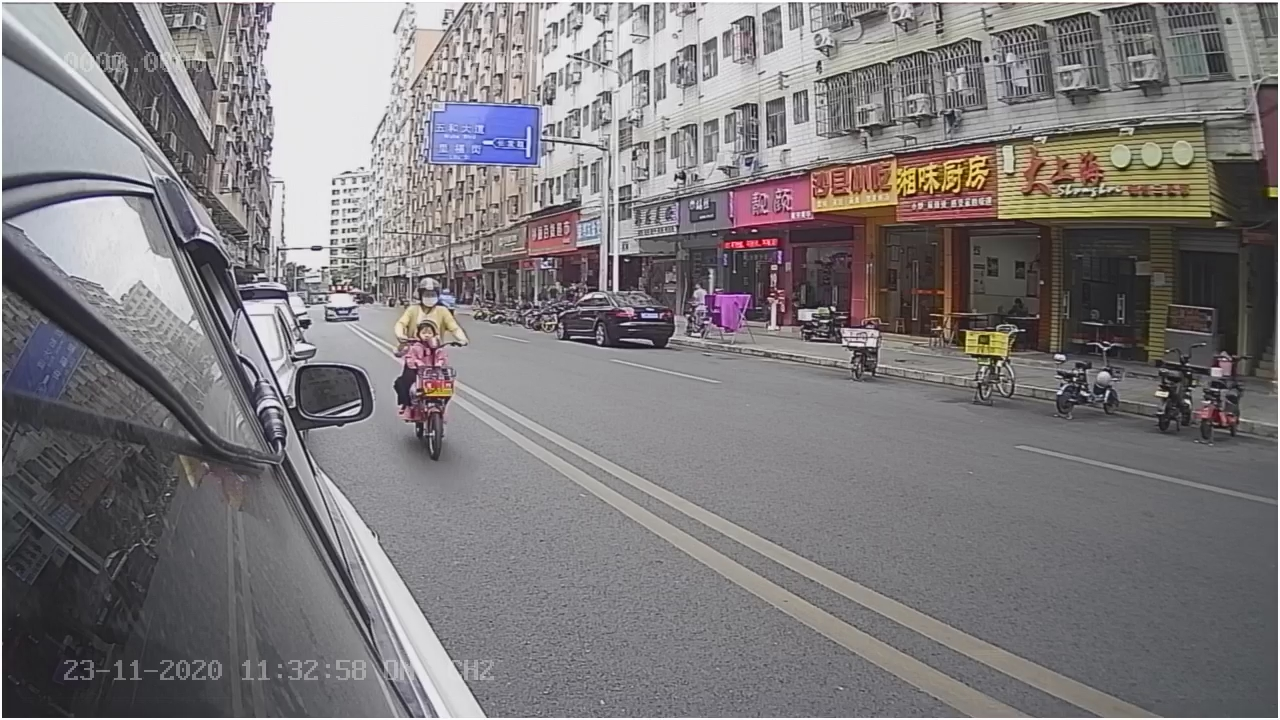person: (391, 279, 463, 344)
